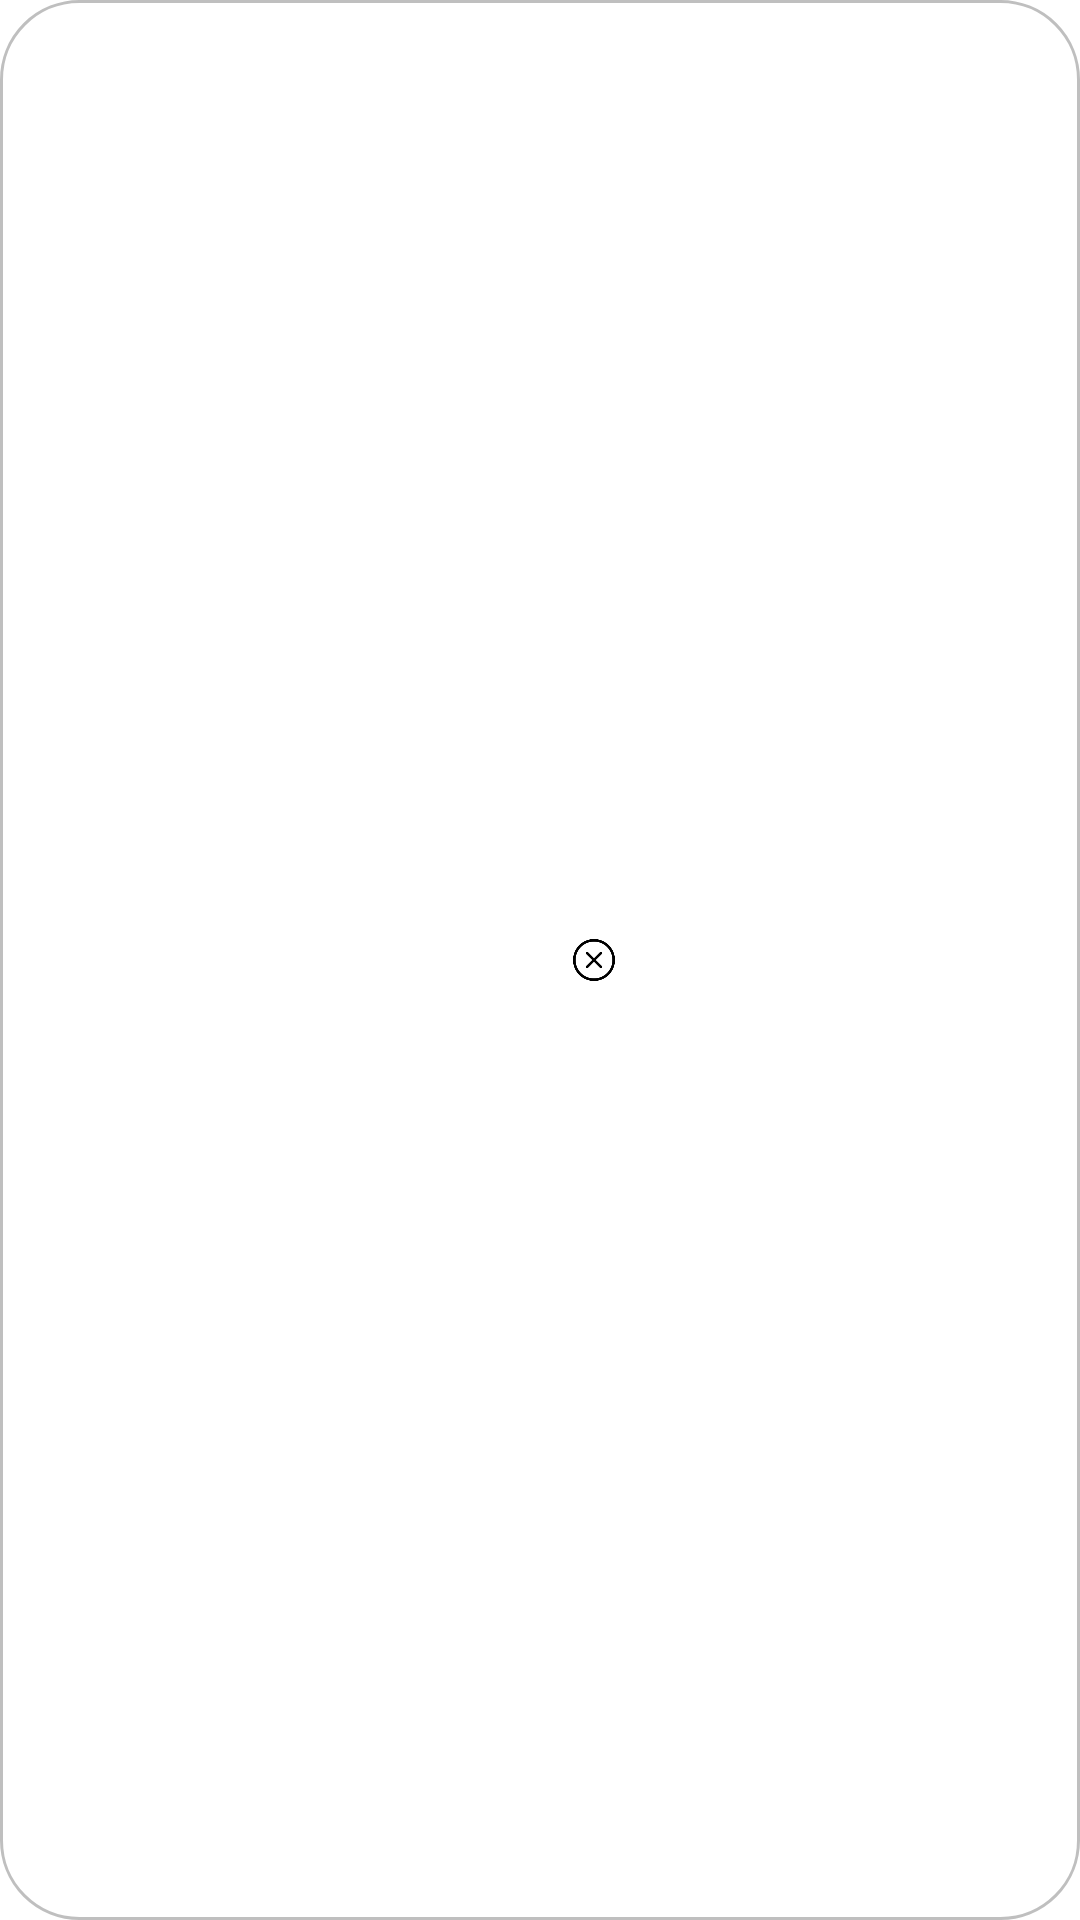

Icons on this 1080x1920 Android screen, each with its box as (x1, y1, x2, y2):
close: (573, 939, 615, 981)
